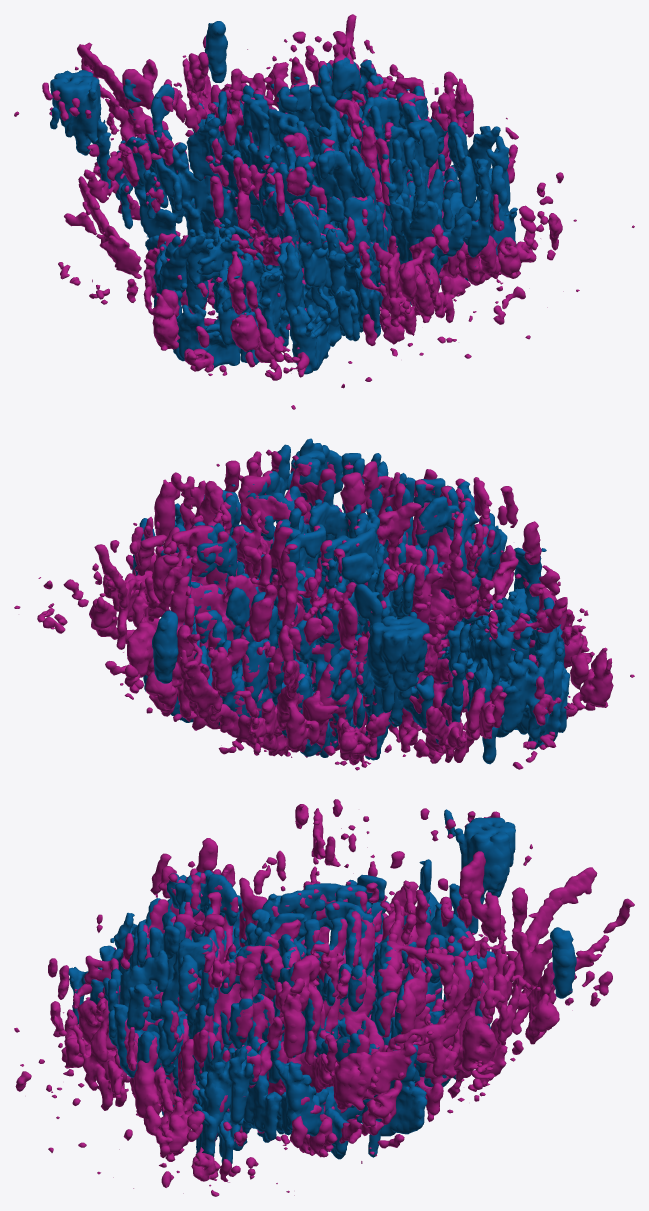
3 views of the same model, one above another, from view 1: azimuth 30°, elevation 25°; view 2: azimuth 150°, elevation 25°; view 3: azimuth 270°, elevation 25° (orthographic). The views are drawn at different scales.
Visible parts, largest first — view 1: 100_96HR_mito, 100_96HR_tmre; view 2: 100_96HR_tmre, 100_96HR_mito; view 3: 100_96HR_tmre, 100_96HR_mito.
Part boxes in pixels (left/top/right/bottom): 100_96HR_mito: left=50, top=21, right=517, bottom=374; 100_96HR_tmre: left=14, top=14, right=634, bottom=409; 100_96HR_tmre: left=14, top=449, right=634, bottom=770; 100_96HR_mito: left=132, top=438, right=569, bottom=764; 100_96HR_tmre: left=14, top=799, right=634, bottom=1196; 100_96HR_mito: left=68, top=809, right=576, bottom=1163.
Size of the model in its own units: 32.46 by 13.23 by 34.95.
